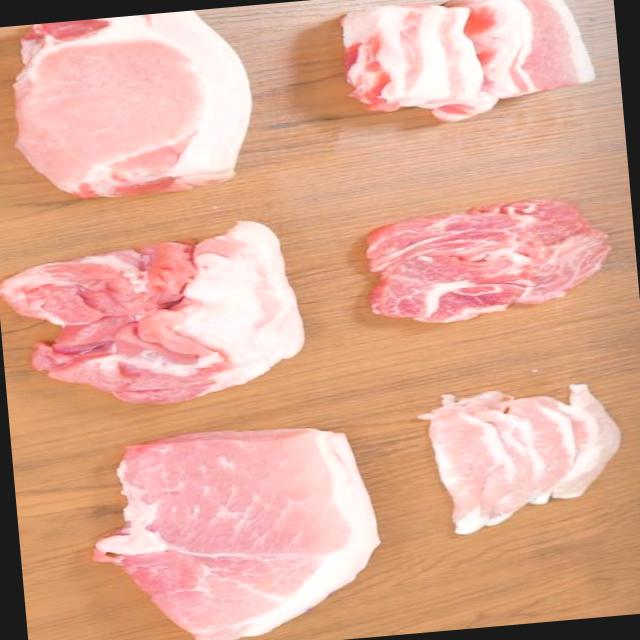pork: (42, 419, 394, 640), (2, 216, 311, 423), (0, 6, 268, 220), (387, 372, 634, 567), (332, 191, 630, 336), (309, 0, 602, 135)
